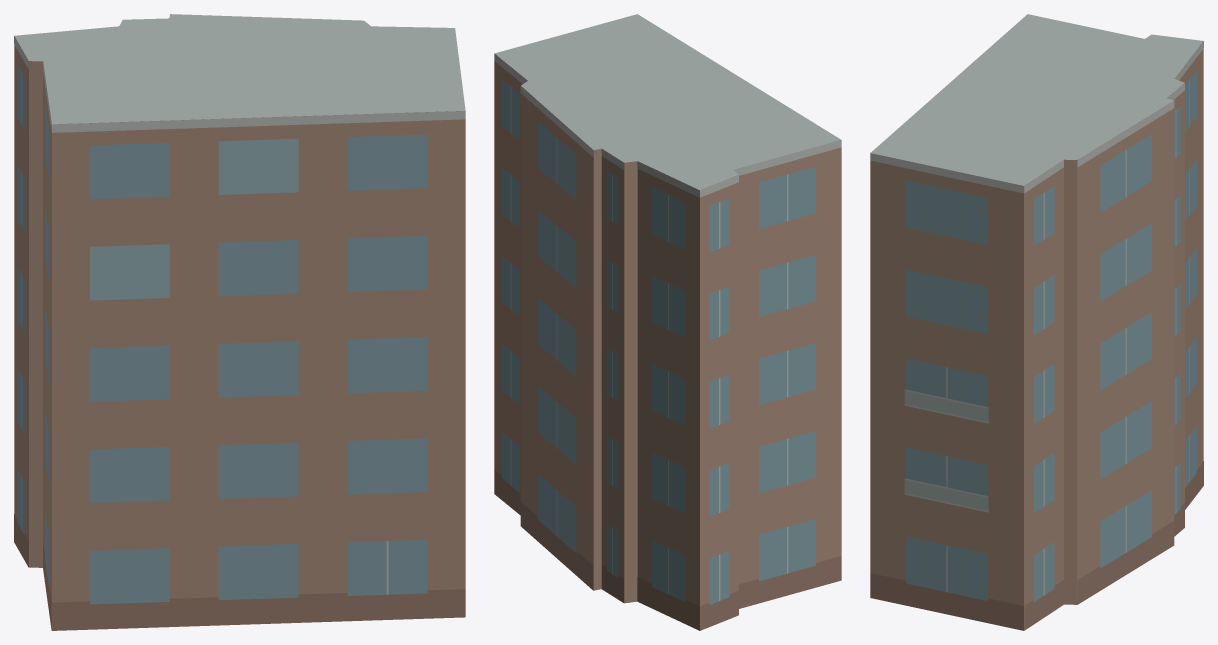
File: survey-upis-33045689.glb
The picture shows the model from 3 angles, left to right: view 1: azimuth 30°, elevation 25°; view 2: azimuth 150°, elevation 25°; view 3: azimuth 270°, elevation 25°; orthographic projection. The views are drawn at different scales.
Parts seen in each view (by area): view 1: survey-upis-33045689.tmp; view 2: survey-upis-33045689.tmp; view 3: survey-upis-33045689.tmp.
Part boxes in pixels (x1,y1,x2,y2): survey-upis-33045689.tmp: (14,14,465,630); survey-upis-33045689.tmp: (494,14,841,630); survey-upis-33045689.tmp: (870,14,1203,630).
Size of the model in its own units: 11.95 by 14.4 by 9.79.
